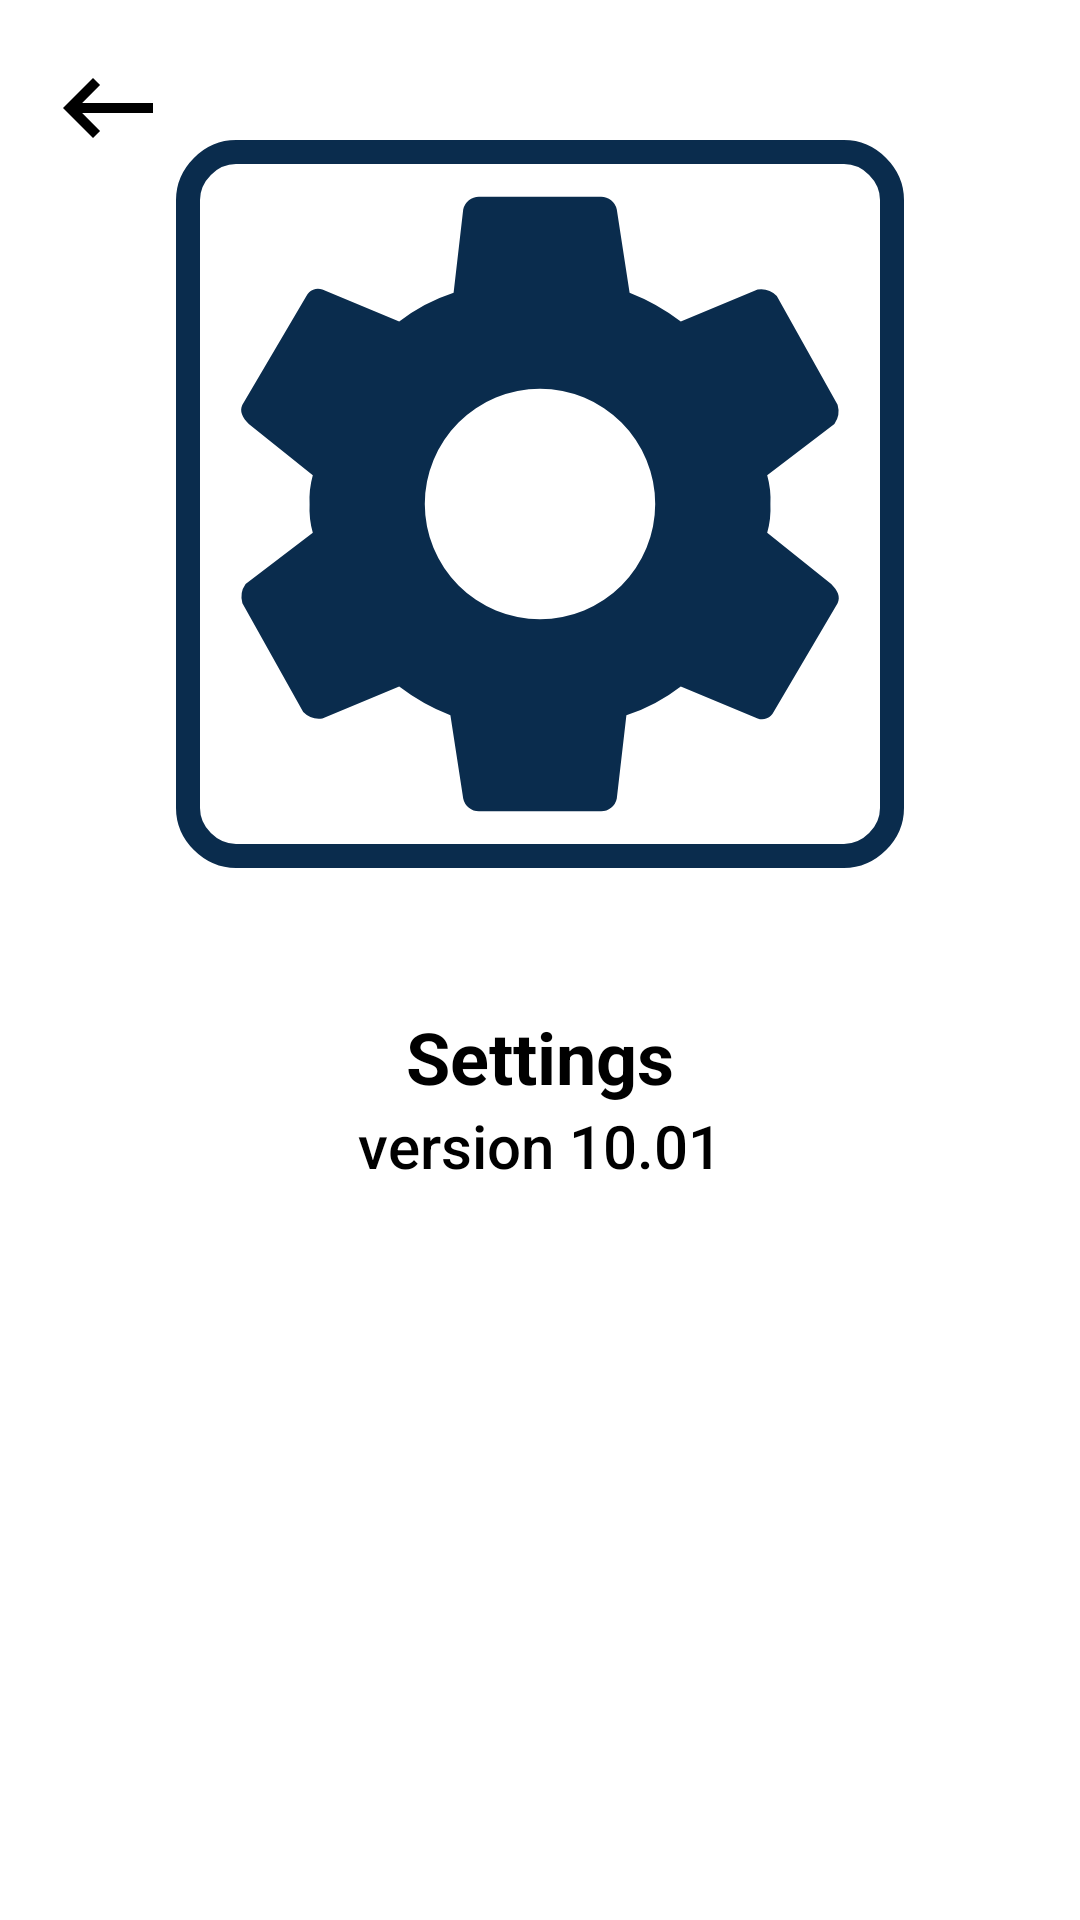

Icon bounding boxes for this 1080 × 1920 phone screenshot, format Rect(x1, y1, x2, y2):
keyboard backspace: Rect(63, 78, 153, 138)
